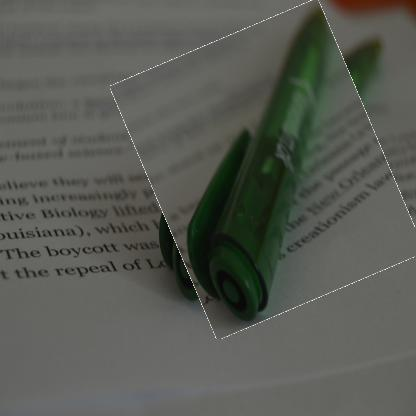Pen: (132, 14, 403, 323)
